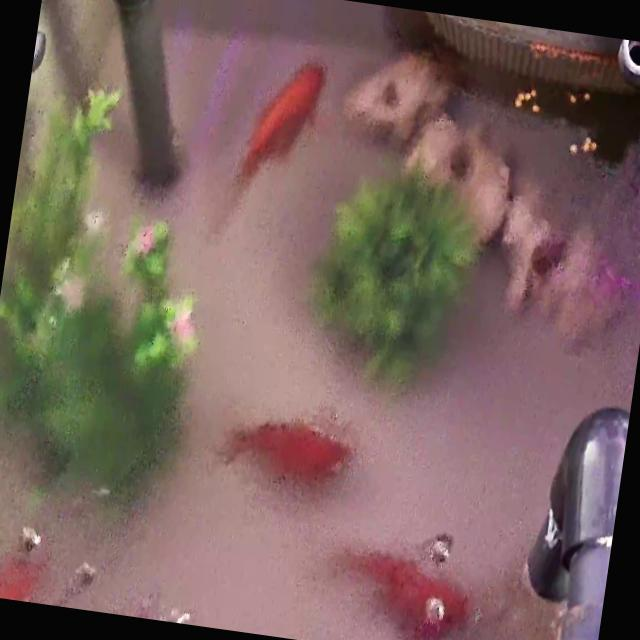fish: (236, 51, 329, 193), (336, 546, 469, 640), (212, 407, 347, 490), (0, 535, 49, 604)
